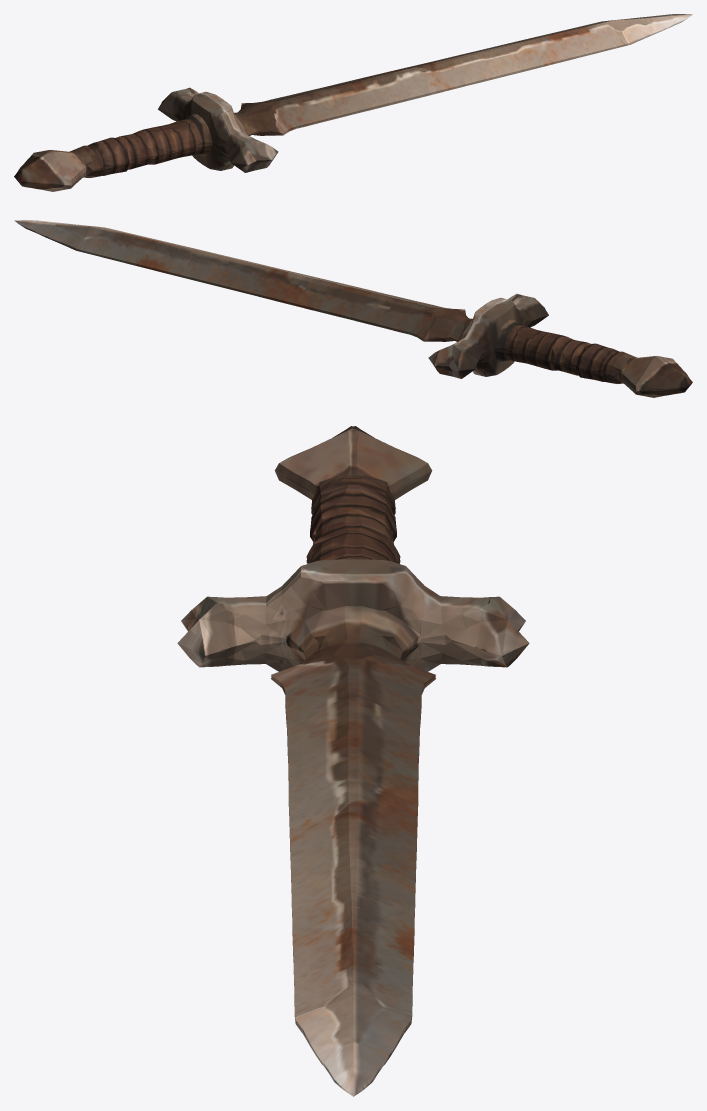
Rendered from newbie_sword_01.fbx.
The picture shows the model from 3 angles, top to bottom: view 1: azimuth 30°, elevation 25°; view 2: azimuth 150°, elevation 25°; view 3: azimuth 270°, elevation 25°; orthographic projection. The views are drawn at different scales.
Parts seen in each view (by area): view 1: newbie_sword_01; view 2: newbie_sword_01; view 3: newbie_sword_01.
Part boxes in pixels (left/top/right/bottom): newbie_sword_01: left=14, top=14, right=692, bottom=191; newbie_sword_01: left=14, top=220, right=692, bottom=397; newbie_sword_01: left=177, top=426, right=529, bottom=1096.
Bounding box in the file's own units: 2.5 × 0.2041 × 0.5658.
